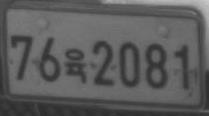0: (119, 41, 140, 86)
1: (172, 44, 194, 90)
2: (92, 39, 114, 86)
6: (38, 36, 60, 82)
7: (10, 34, 33, 81)
8: (145, 44, 167, 89)
육: (63, 48, 87, 83)
